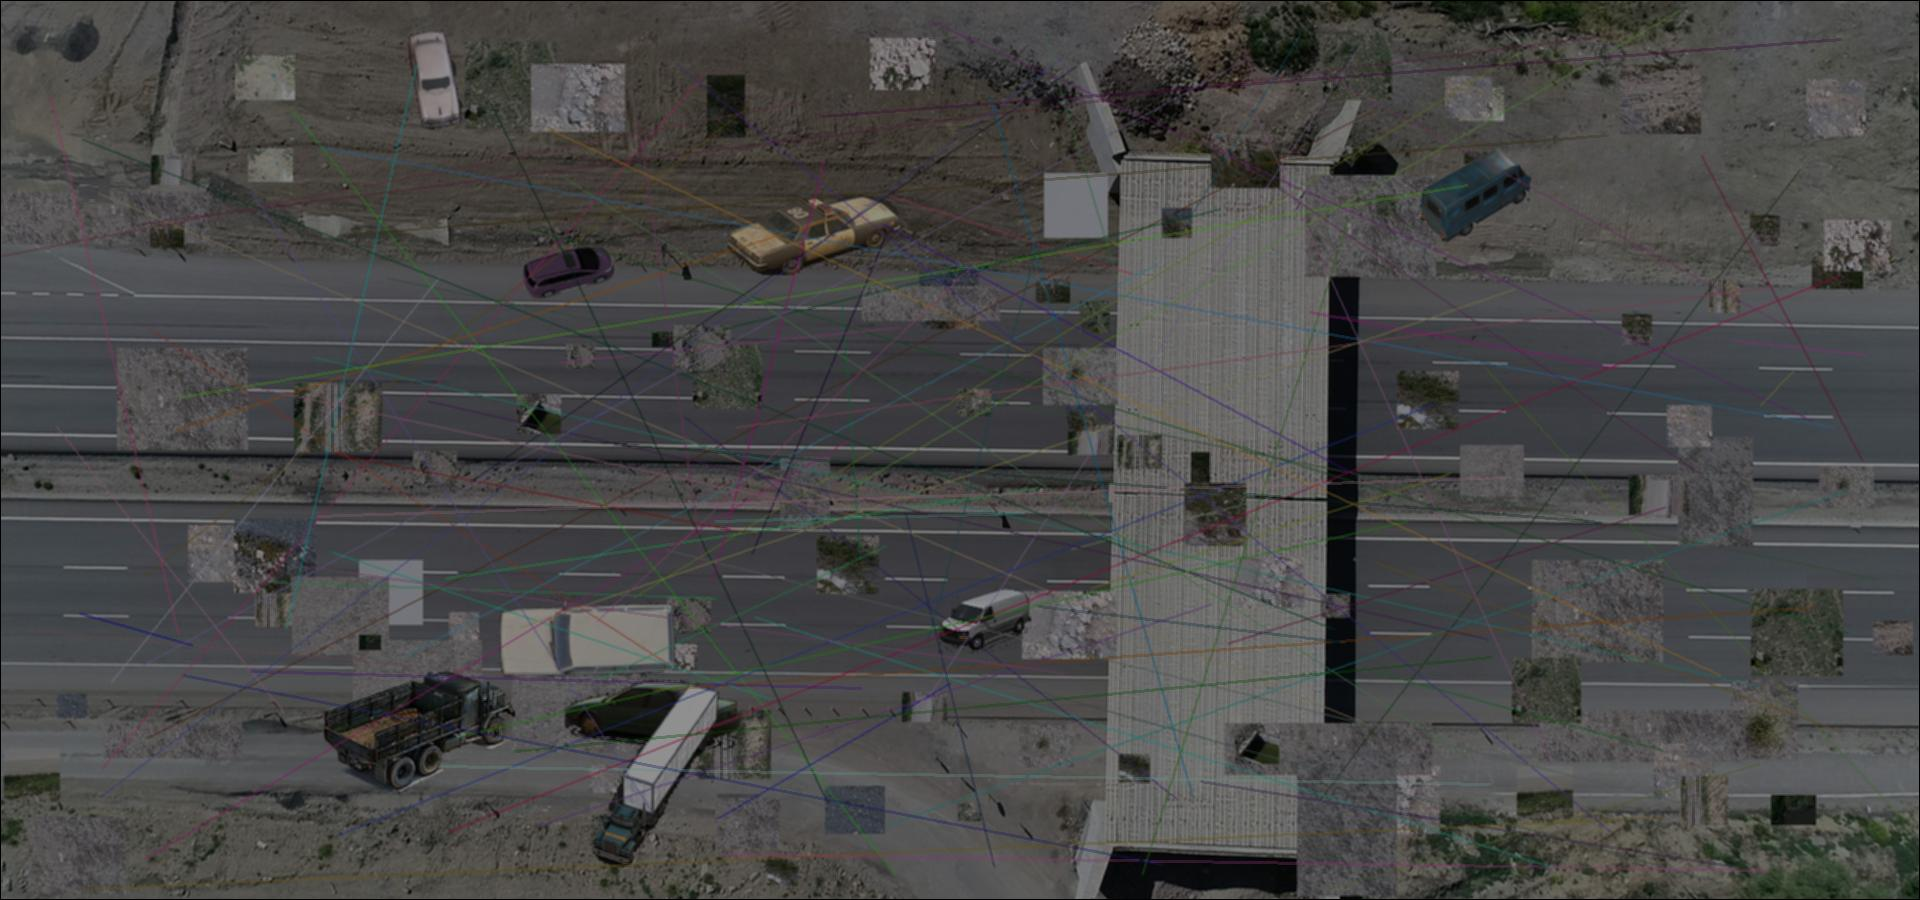arac: (318, 665, 516, 791), (588, 682, 720, 869), (493, 593, 680, 681), (729, 187, 909, 276), (564, 676, 743, 749), (1418, 144, 1533, 244), (402, 28, 469, 130), (939, 588, 1031, 653), (519, 246, 618, 299)
